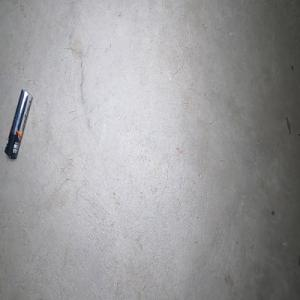Battery: (4, 88, 32, 159)
